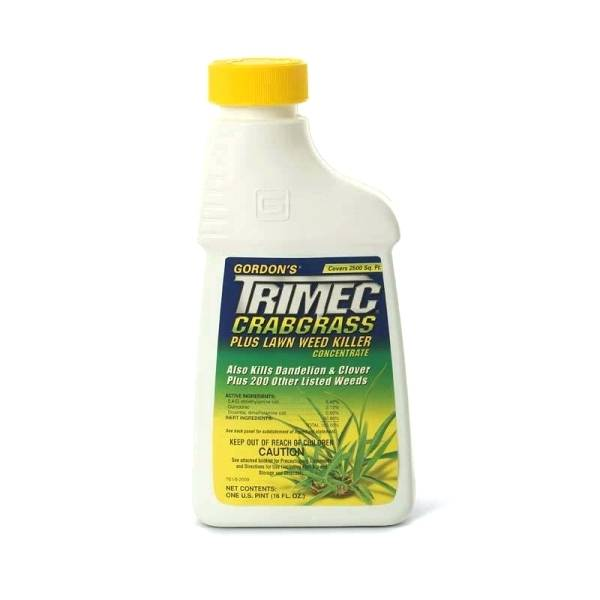crabgrass: (286, 408, 391, 503)
